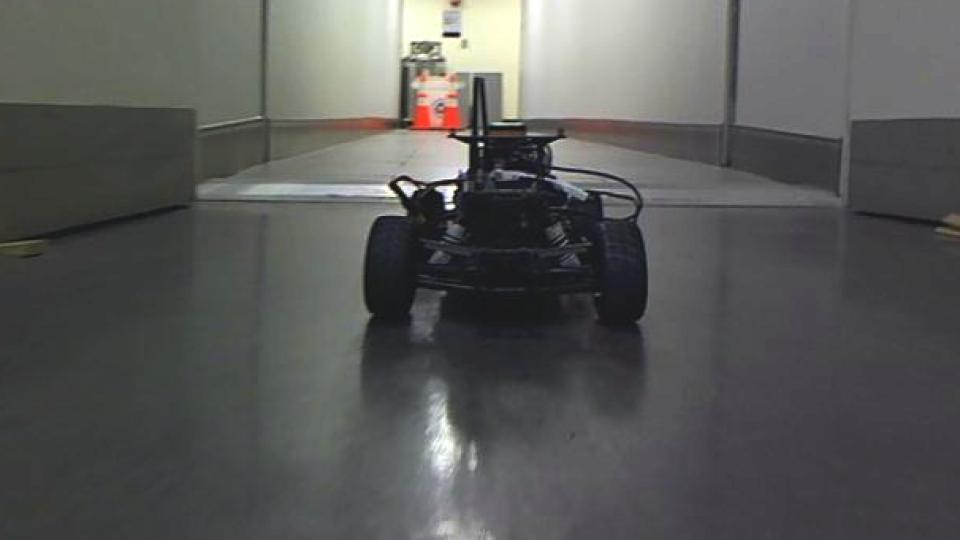car: (358, 75, 651, 329)
